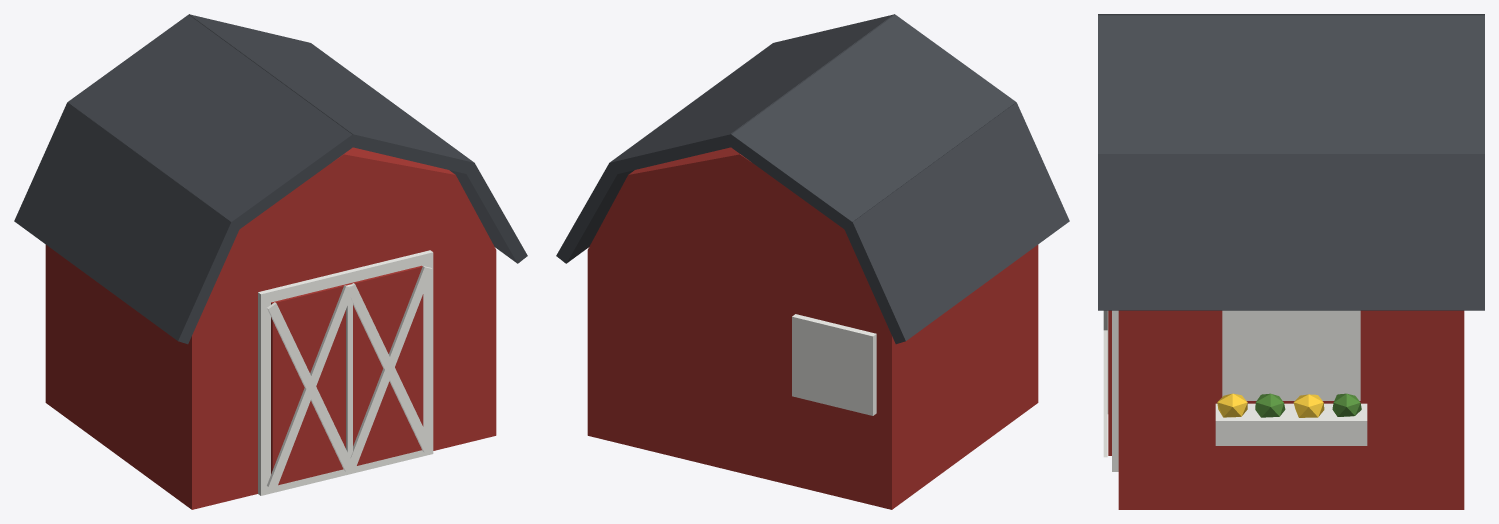
The model's file is shed.glb.
3 renders of one model, left to right at view 1: azimuth 30°, elevation 25°; view 2: azimuth 150°, elevation 25°; view 3: azimuth 270°, elevation 25°, orthographic. The views are drawn at different scales.
Visible parts, largest first — view 1: Shed_Walls, Shed_Roof, Shed_Trim; view 2: Shed_Walls, Shed_Roof, Shed_Trim; view 3: Shed_Roof, Shed_Walls, Shed_Trim, Shed_Flowers, Shed_Leaves.
Part boxes in pixels (bbox=[...]): Shed_Walls: bbox=[45, 147, 496, 509]; Shed_Roof: bbox=[14, 14, 527, 344]; Shed_Trim: bbox=[258, 250, 433, 495]; Shed_Walls: bbox=[587, 147, 1038, 509]; Shed_Roof: bbox=[556, 14, 1069, 344]; Shed_Trim: bbox=[792, 314, 876, 415]; Shed_Roof: bbox=[1098, 14, 1484, 310]; Shed_Walls: bbox=[1108, 310, 1464, 509]; Shed_Trim: bbox=[1103, 310, 1367, 471]; Shed_Flowers: bbox=[1217, 393, 1324, 417]; Shed_Leaves: bbox=[1255, 393, 1361, 417].
Bounding box in the file's own units: 14.1 × 13.01 × 11.2.
